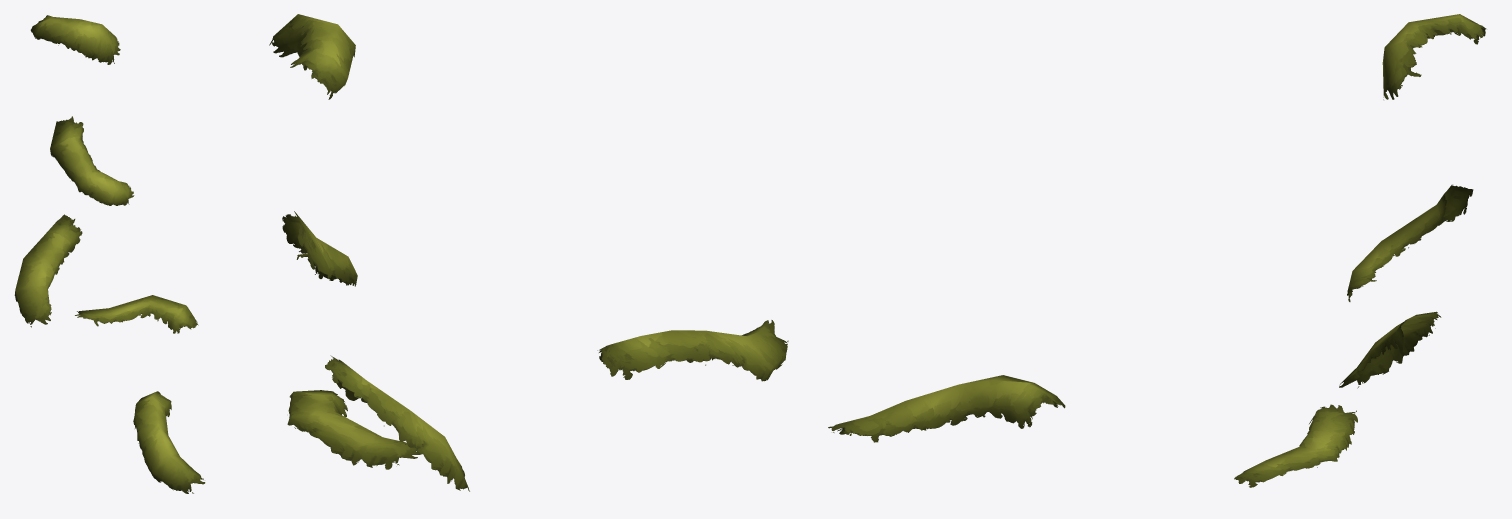
Rendered from Moss.FBX.
3 views of the same model, side by side, from view 1: azimuth 30°, elevation 25°; view 2: azimuth 150°, elevation 25°; view 3: azimuth 270°, elevation 25° (orthographic). The views are drawn at different scales.
Parts seen in each view (by area): view 1: Moss plane; view 2: Moss plane; view 3: Moss plane.
Part boxes in pixels (left/top/right/bottom): Moss plane: left=14, top=15, right=205, bottom=493; Moss plane: left=269, top=14, right=788, bottom=491; Moss plane: left=828, top=14, right=1486, bottom=487.
Size of the model in its own units: 345 by 654 by 830.
